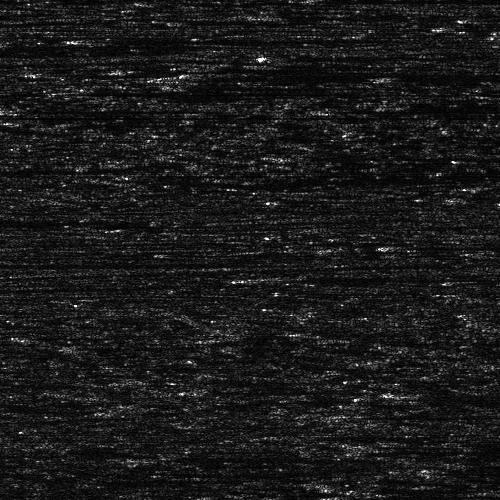rock: (266, 491, 371, 500), (396, 464, 469, 475), (142, 73, 225, 82), (238, 273, 301, 282), (423, 193, 496, 200), (298, 411, 361, 418), (373, 241, 426, 248), (81, 36, 144, 41), (461, 184, 500, 189), (0, 106, 36, 111), (394, 388, 405, 401), (379, 76, 420, 79), (461, 251, 500, 254)
shadow: (184, 73, 500, 82), (270, 273, 500, 282), (319, 491, 474, 500), (113, 36, 382, 41), (400, 388, 500, 401), (0, 261, 238, 266), (0, 46, 167, 53), (330, 411, 484, 418), (16, 106, 215, 111), (433, 464, 500, 475), (400, 241, 500, 248), (151, 454, 301, 457), (400, 76, 500, 79), (460, 193, 500, 200), (482, 184, 500, 189)
